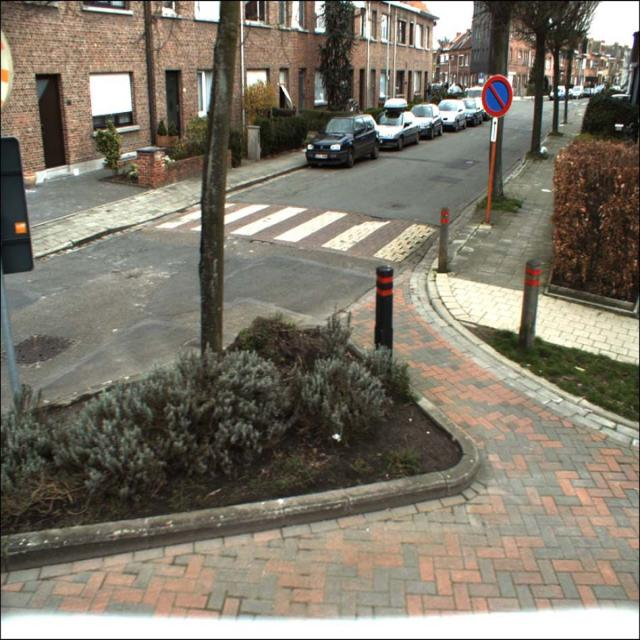parkyasak: (480, 76, 512, 116)
